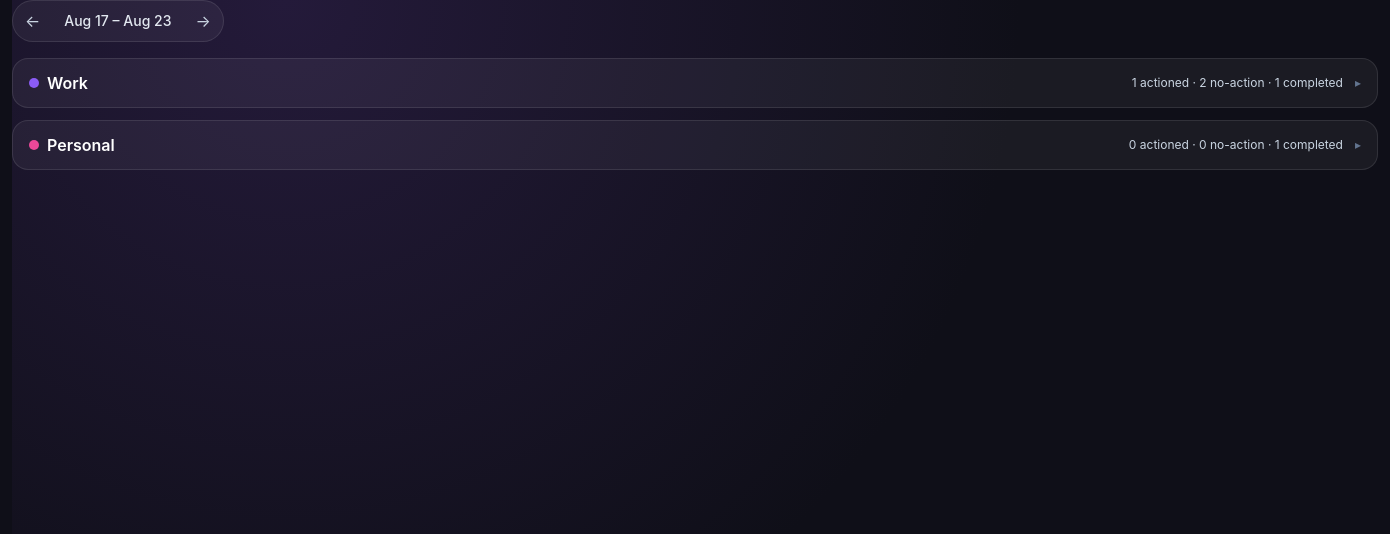
Test case: SummaryView › re-fetches with an updated date on prev/next, and "This week" only appears on a non-current week
Expected: the text "This week" is not shown
Step 1. Click the text "Work" → (68,83), box [47,71,88,95]
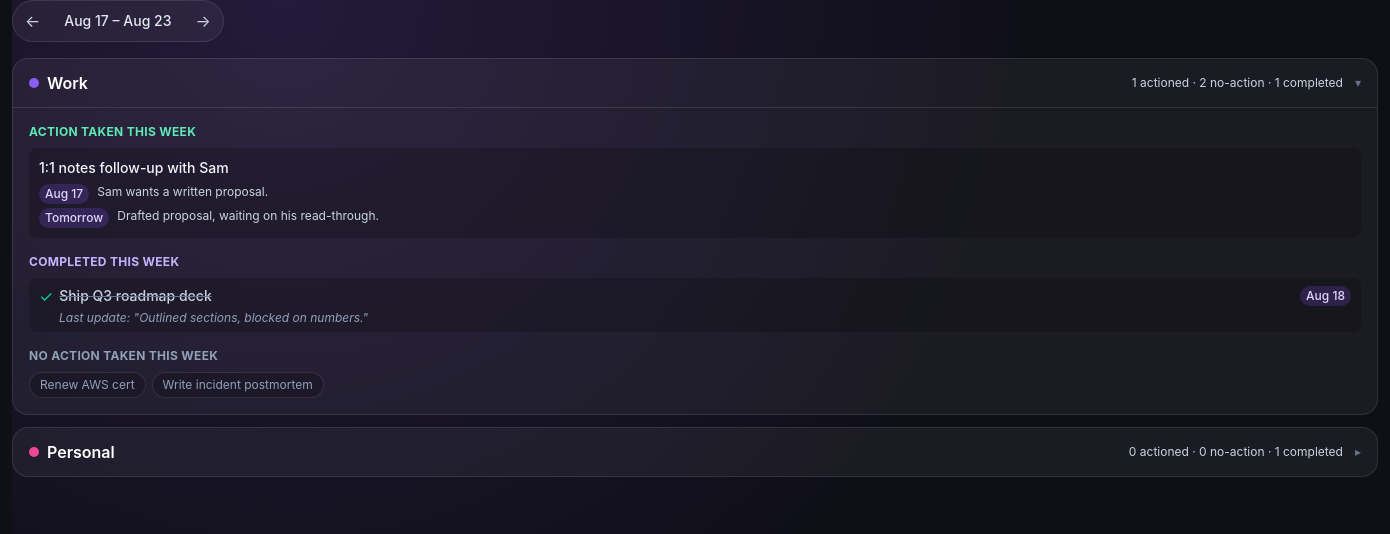
Result: the text "Ship Q3 roadmap deck" is shown at [59,286,212,306]
Step 2. Click the button named "Previous week" → (33,21), box [17,5,48,37]
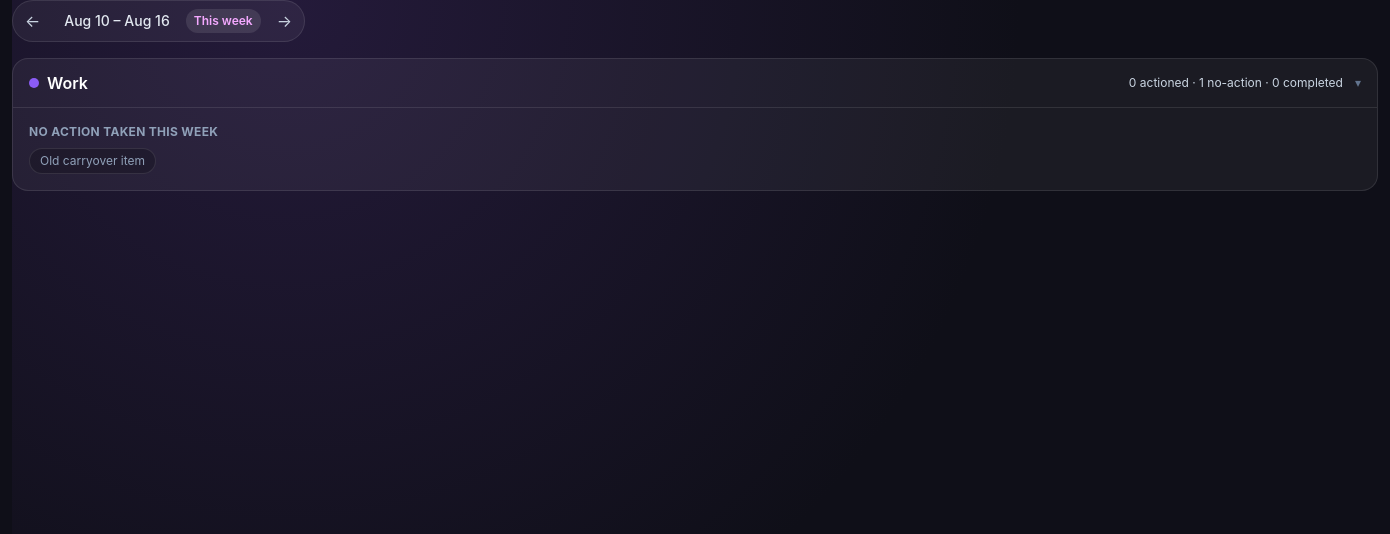
Result: the button "This week" is shown
Result: the button "Old carryover item" is shown at [29,148,156,174]
Step 3. Click the button "This week" → (223,21), box [186,9,261,33]
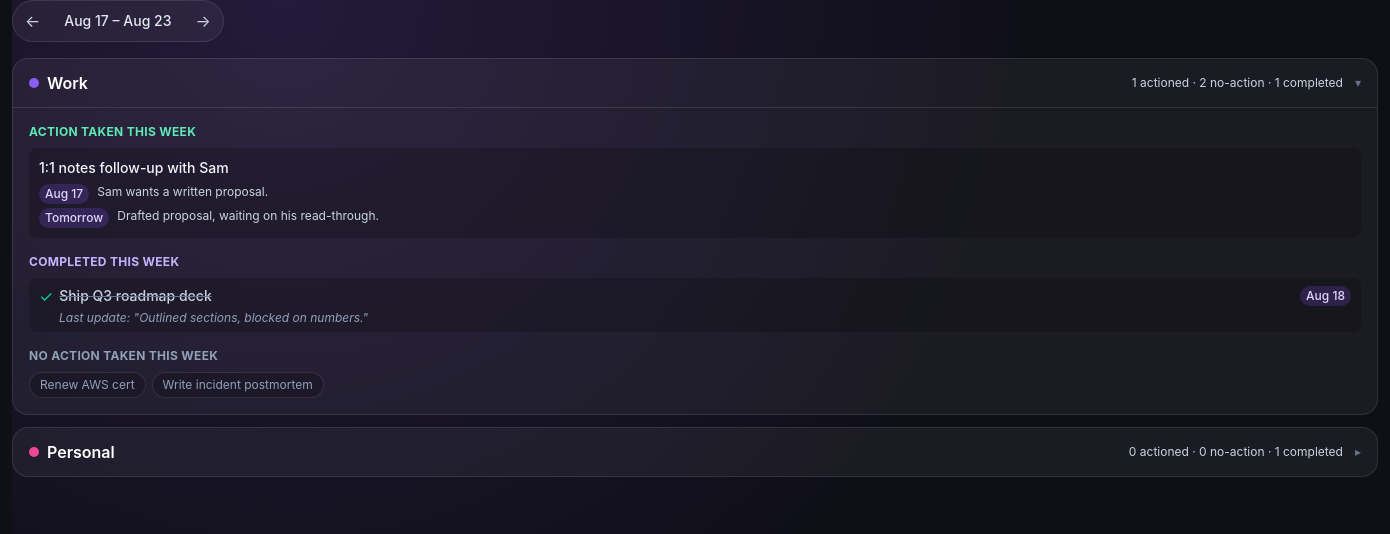
Result: the text "Ship Q3 roadmap deck" is shown at [59,286,212,306]
Result: the button "Old carryover item" is gone
